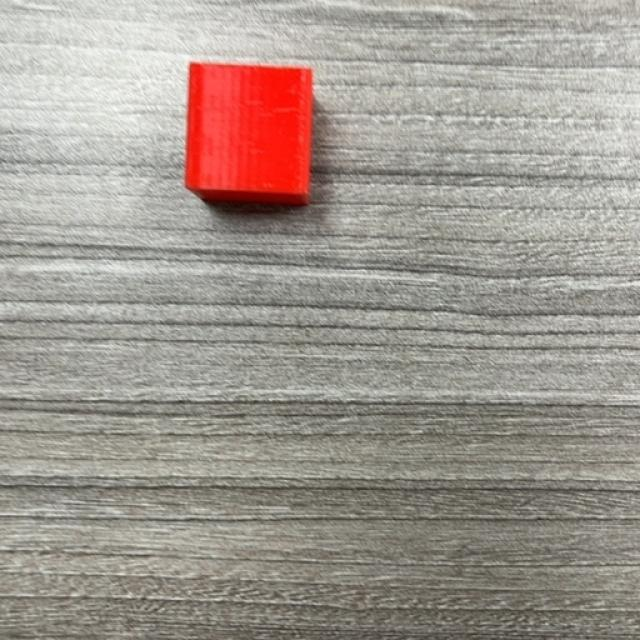Rojo: (184, 61, 315, 206)
